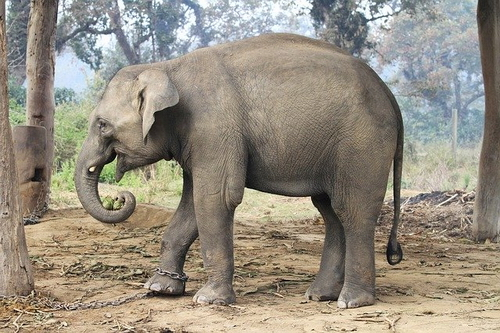elephant: (72, 30, 408, 311)
